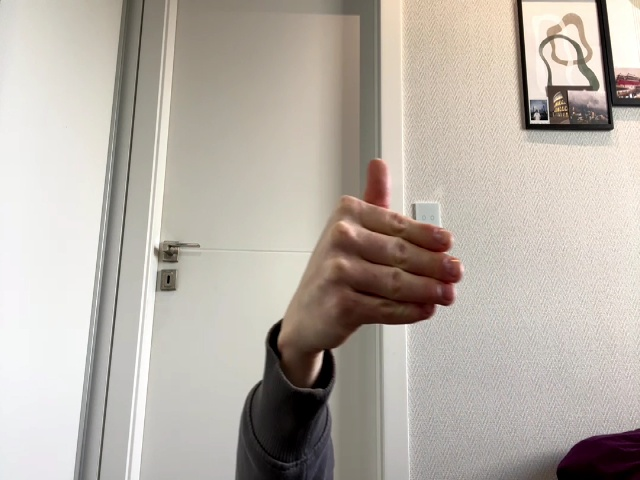M: (299, 158, 463, 383)
